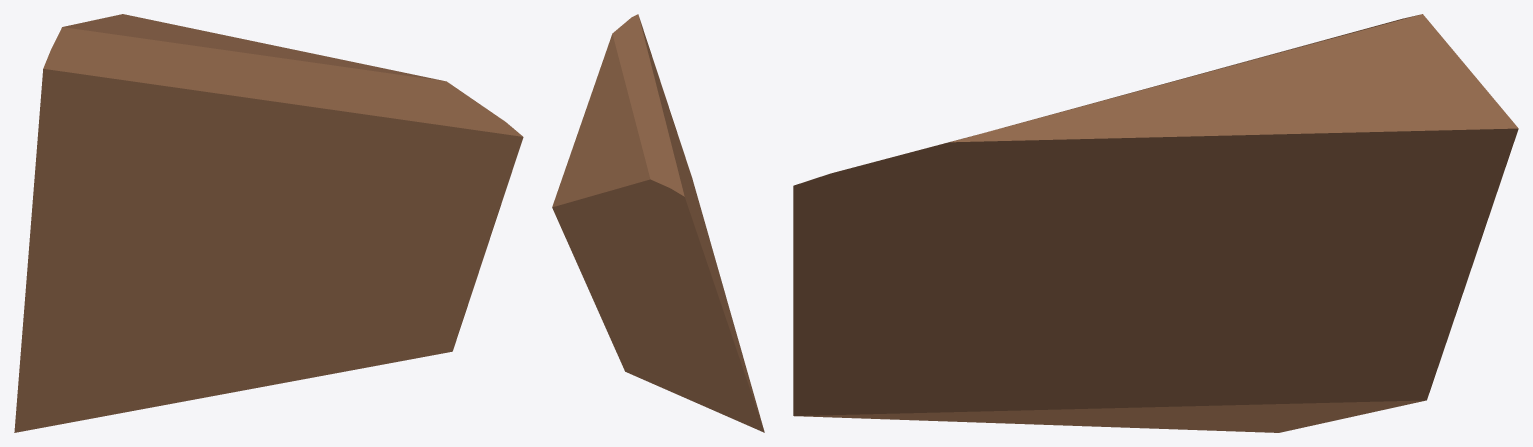
Rendered from WoodCellCube_003_cell_055.fbx.
3 renders of one model, left to right at view 1: azimuth 30°, elevation 25°; view 2: azimuth 150°, elevation 25°; view 3: azimuth 270°, elevation 25°, orthographic. The views are drawn at different scales.
Parts seen in each view (by area): view 1: WoodCellCube_003_cell_055; view 2: WoodCellCube_003_cell_055; view 3: WoodCellCube_003_cell_055.
Boxes of the visible parts, x1,y1,x2,y2 form: WoodCellCube_003_cell_055: [14, 14, 523, 432]; WoodCellCube_003_cell_055: [552, 14, 764, 432]; WoodCellCube_003_cell_055: [793, 14, 1518, 432].
Bounding box in the file's own units: 0.4407 × 0.3408 × 0.3344.
1 material, 1 textured.
